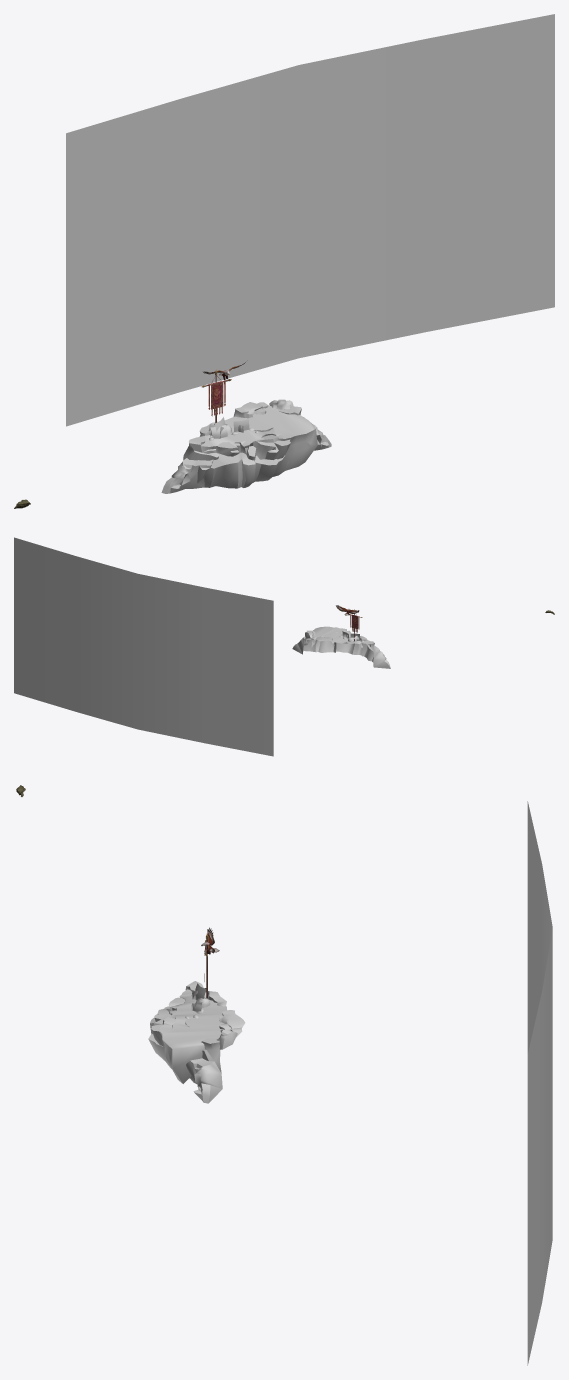
Rendered from s7_jiemian_shitou001.FBX.
The picture shows the model from 3 angles, top to bottom: view 1: azimuth 30°, elevation 25°; view 2: azimuth 150°, elevation 25°; view 3: azimuth 270°, elevation 25°; orthographic projection. The views are drawn at different scales.
Visible parts, largest first — view 1: Plane014, Object02; view 2: Plane014, Object02; view 3: Plane014, Object02.
Part boxes in pixels (<box>): Plane014: <box>66,14,554,426</box>; Object02: <box>161,399,331,493</box>; Plane014: <box>14,537,273,756</box>; Object02: <box>292,626,390,668</box>; Plane014: <box>527,801,552,1365</box>; Object02: <box>148,981,245,1103</box>.
Bounding box in the file's own units: 3220 × 1158 × 1806.
